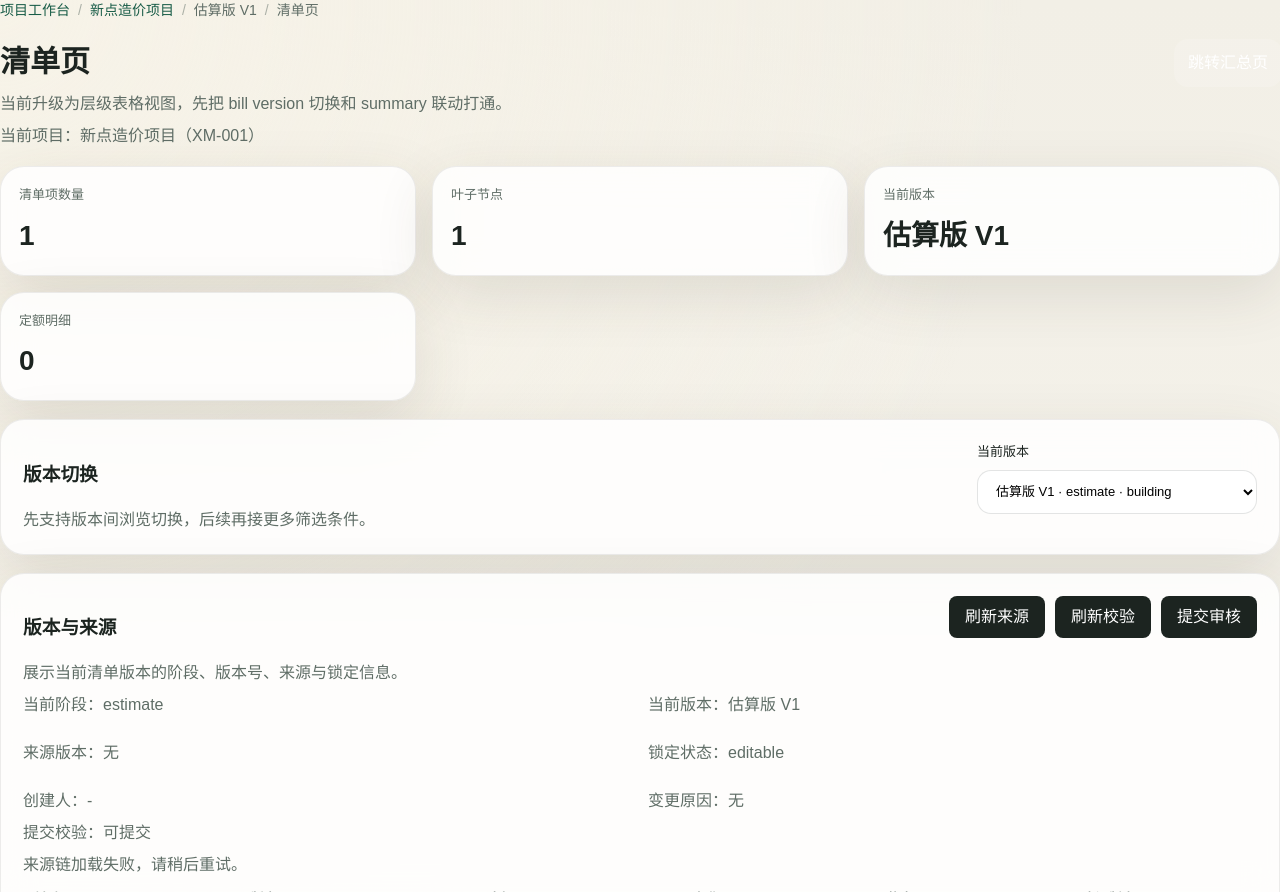
Scenario: BillItemsPage › shows structured validation details when submit is rejected
The width and height of the screenshot is (1280, 892).
Expected: the text "提交校验：可提交" is shown, [23,824,151,841]
Click the button "提交审核": (1209, 616) [1161,596,1257,638]
(page scrolled)
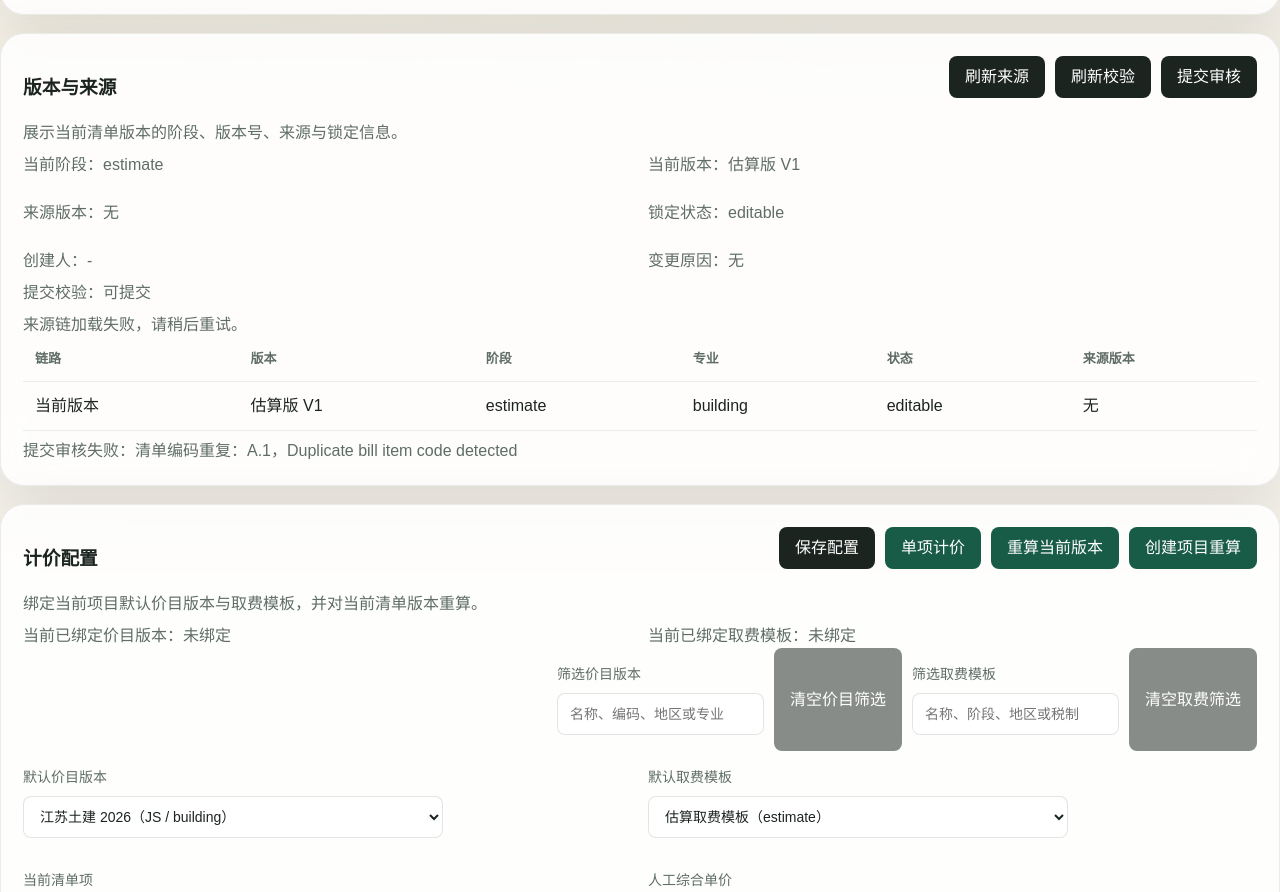
Now the text "提交审核失败：清单编码重复：A.1，Duplicate bill item code detected" is shown, box [23,442,517,458]
